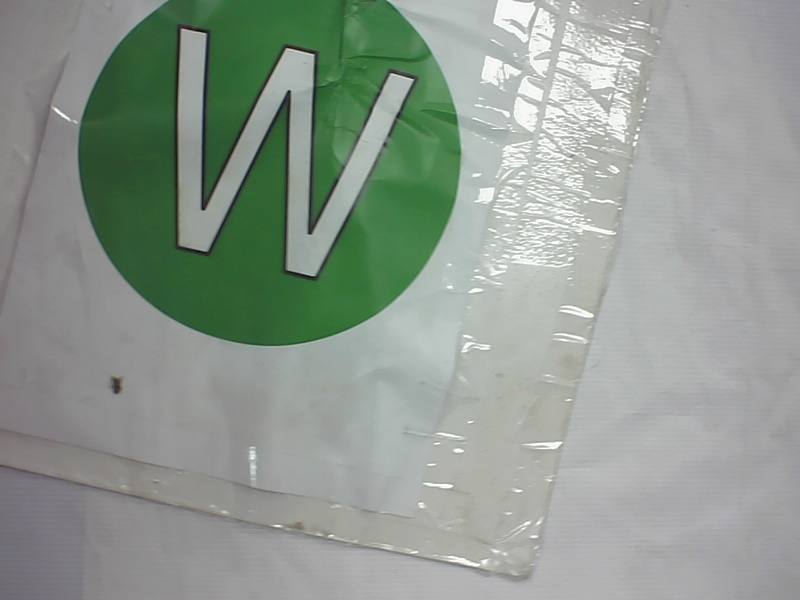areaB: (62, 3, 472, 346)
